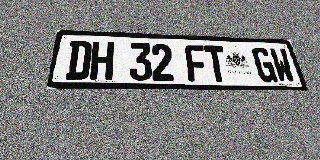2: (151, 43, 174, 81)
3: (130, 43, 152, 81)
D: (65, 40, 92, 80)
F: (185, 45, 209, 82)
G: (251, 47, 278, 82)
H: (89, 41, 114, 80)
T: (204, 45, 229, 82)
W: (269, 48, 296, 83)
